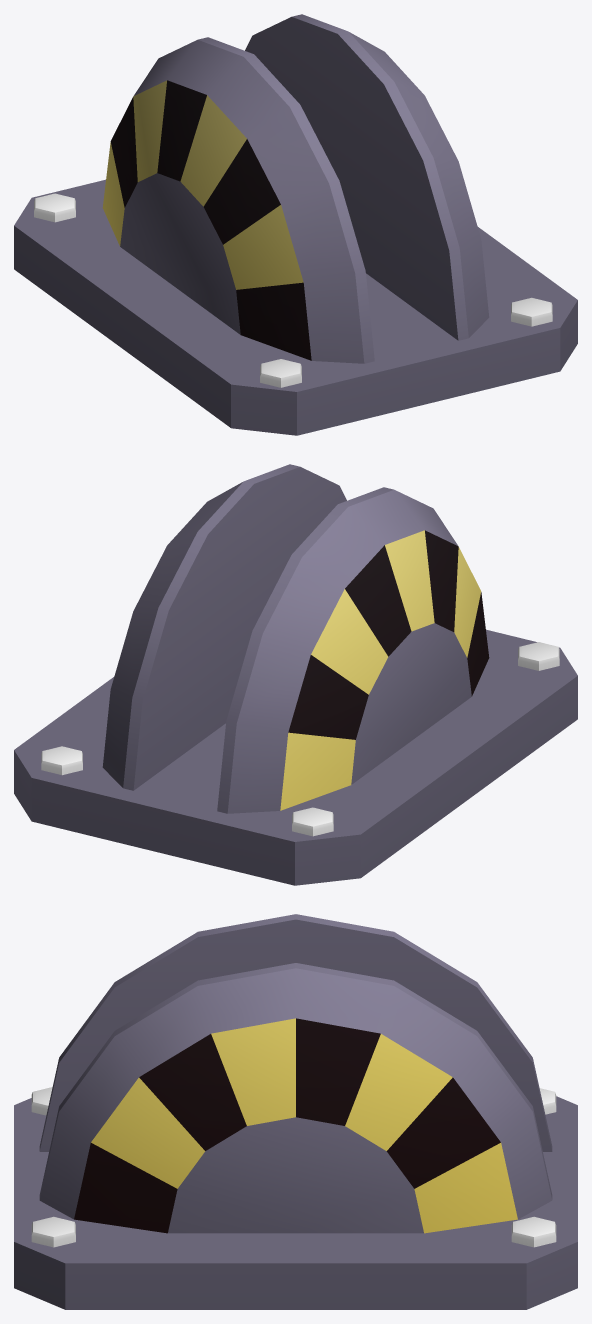
Rendered from leverDodai.gltf.
3 renders of one model, top to bottom at view 1: azimuth 30°, elevation 25°; view 2: azimuth 150°, elevation 25°; view 3: azimuth 270°, elevation 25°, orthographic. The views are drawn at different scales.
Visible parts, largest first — view 1: Sphere001, Cylinder001; view 2: Sphere001, Cylinder001; view 3: Sphere001, Cylinder001.
Part boxes in pixels (x1,y1,x2,y2): Sphere001: (14,14,577,435); Cylinder001: (34,193,552,387); Sphere001: (14,464,577,885); Cylinder001: (41,642,559,836); Sphere001: (14,914,577,1309); Cylinder001: (31,1087,556,1247).
Bounding box in the file's own units: 0.8299 × 0.6 × 1.1.
Materials: 2 (2 with a texture image).
